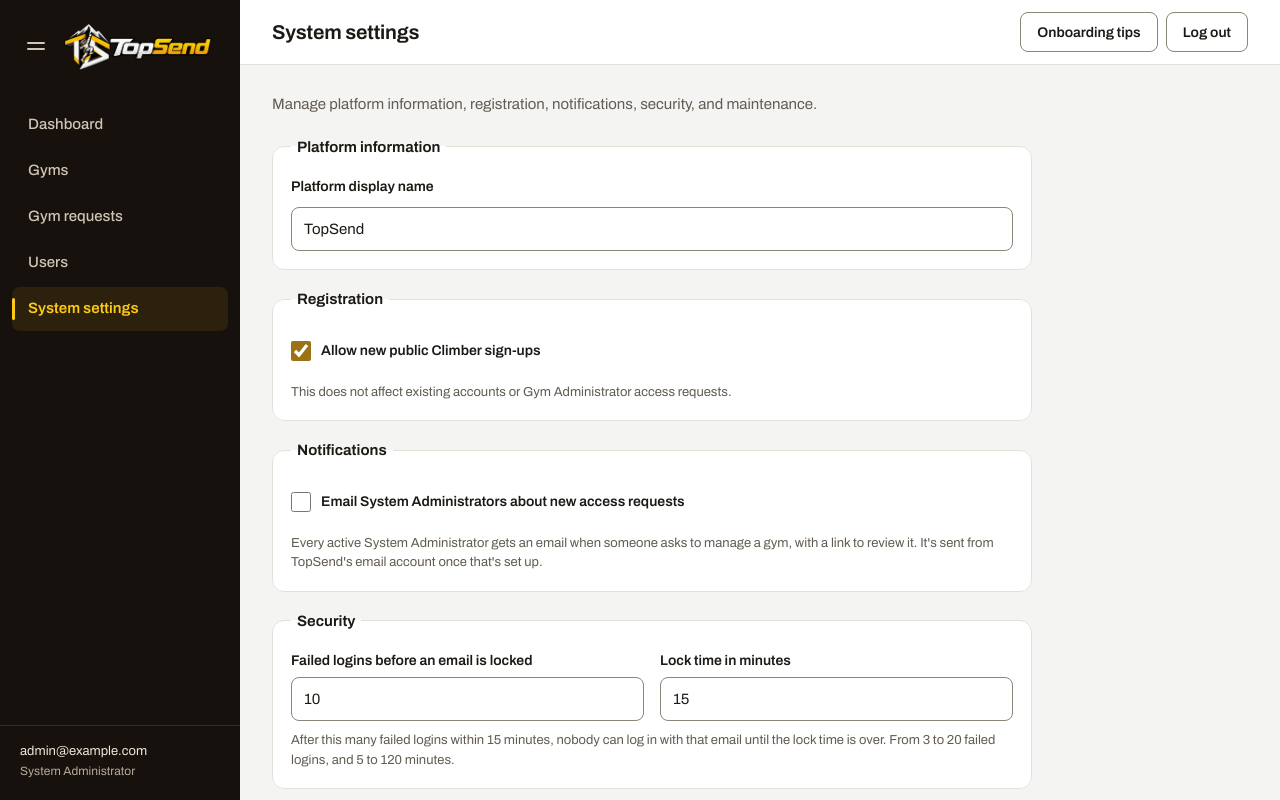
US-010 system settings › trims the name and sends only the changed setting
Replace the text in the field labelled "Platform display name" with "  Boulder Hub  " at (652, 229), box [291, 207, 1013, 251]
(page scrolled)
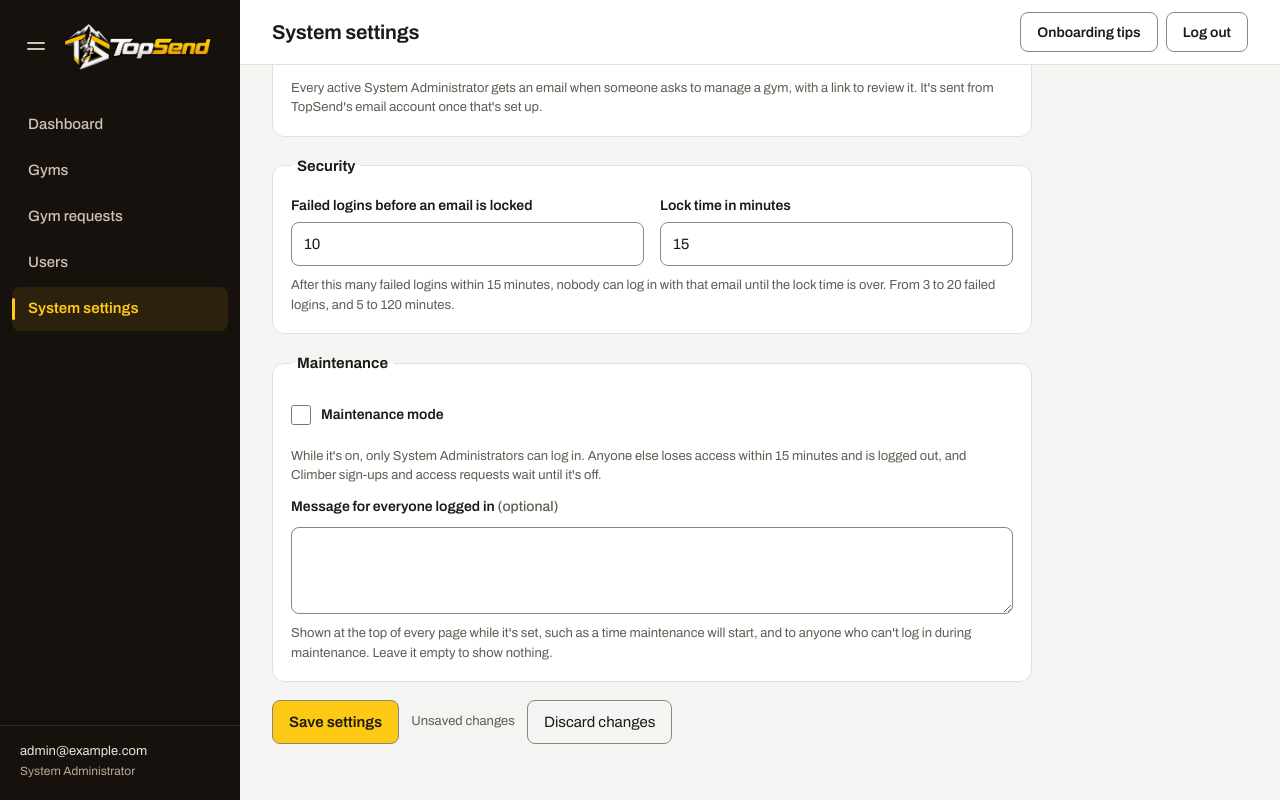
Click the button "Save settings".
click(336, 722)  # box [272, 700, 399, 744]
(page scrolled)
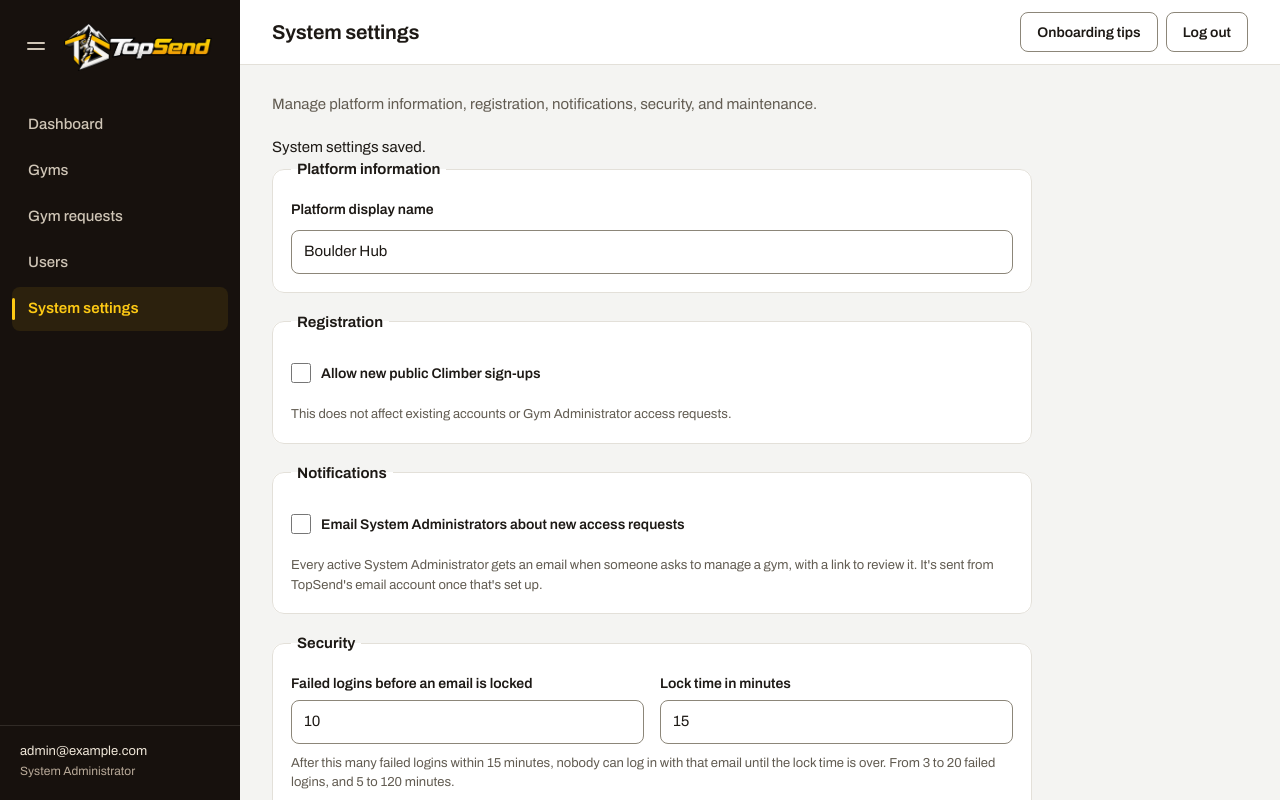
expect the text "System settings saved." is shown: met, box [272, 138, 426, 154]
